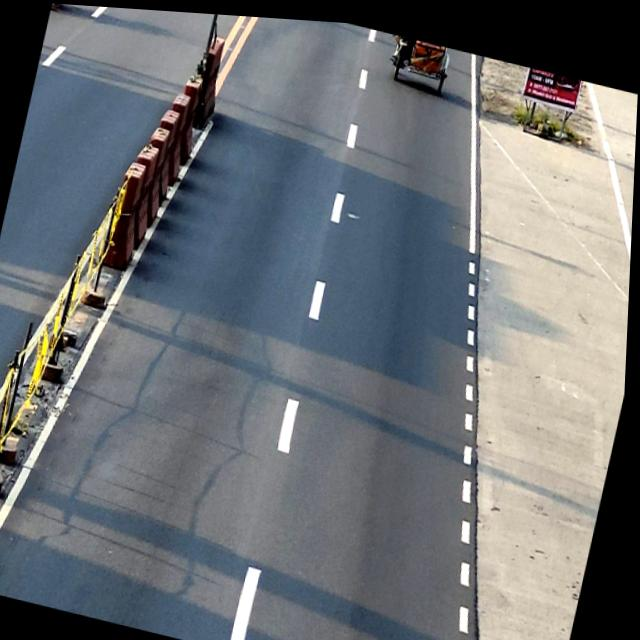License-Plate: (398, 31, 408, 40)
Tricycle: (385, 29, 452, 87)
